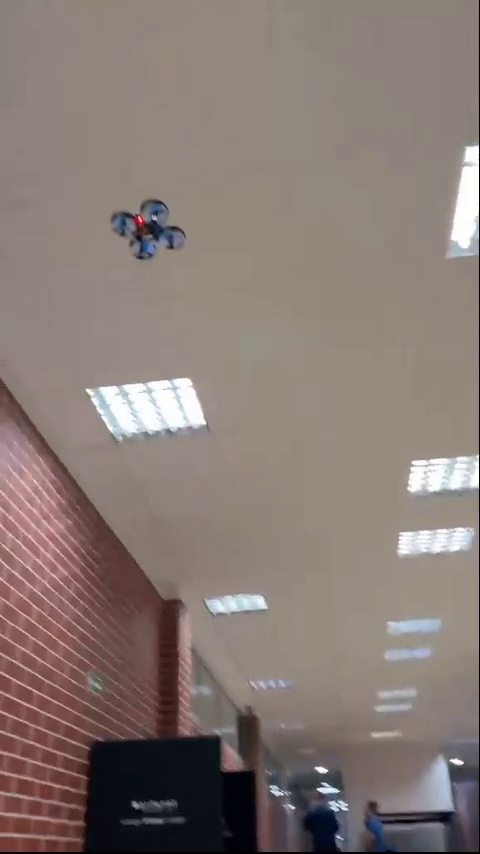drone: (110, 199, 189, 261)
